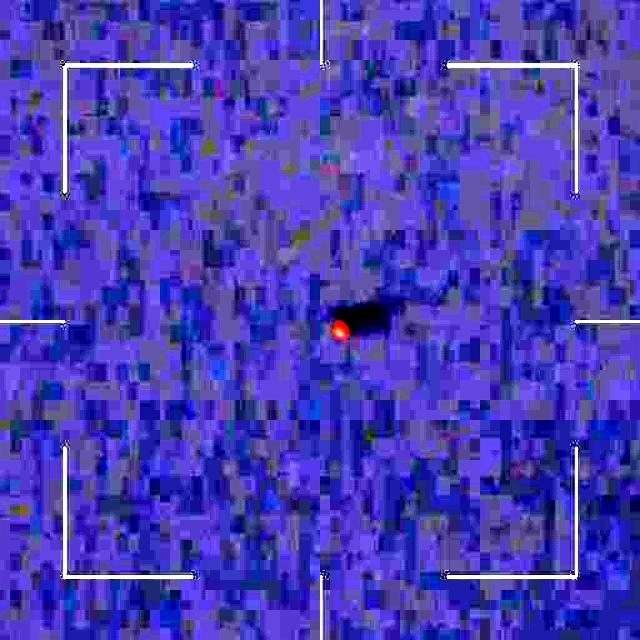bird: (326, 306, 361, 356)
